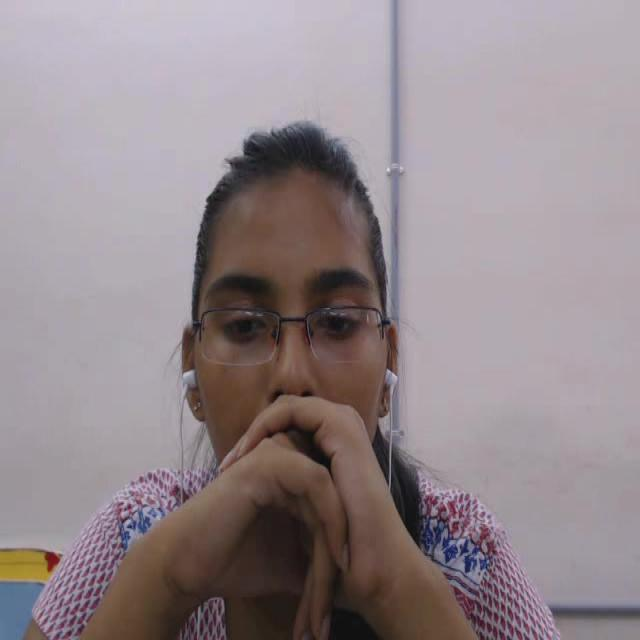Bored: (172, 113, 434, 544)
